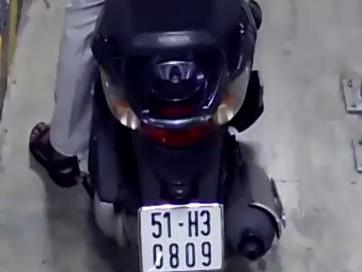num_plate: (138, 201, 223, 272)
